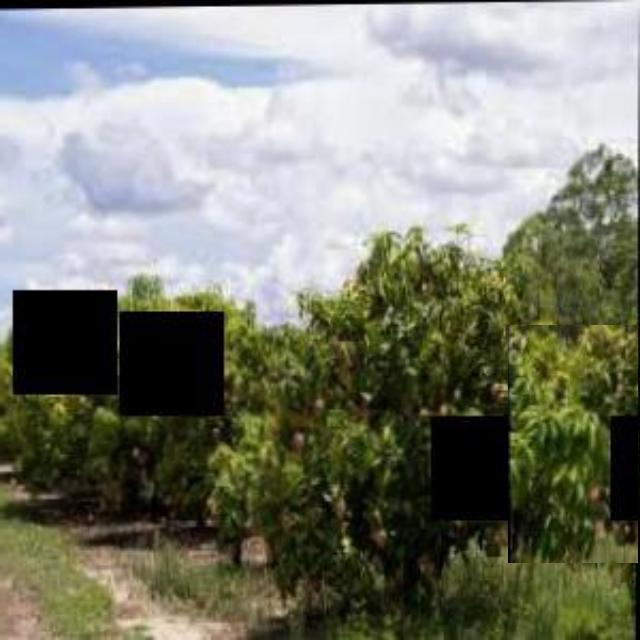tree: (207, 216, 561, 624), (2, 264, 266, 538), (508, 325, 638, 563)
